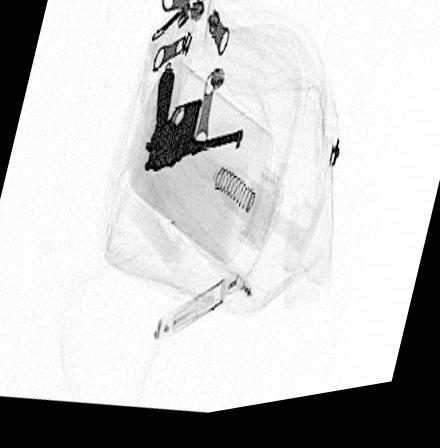Gun: (142, 71, 244, 178)
